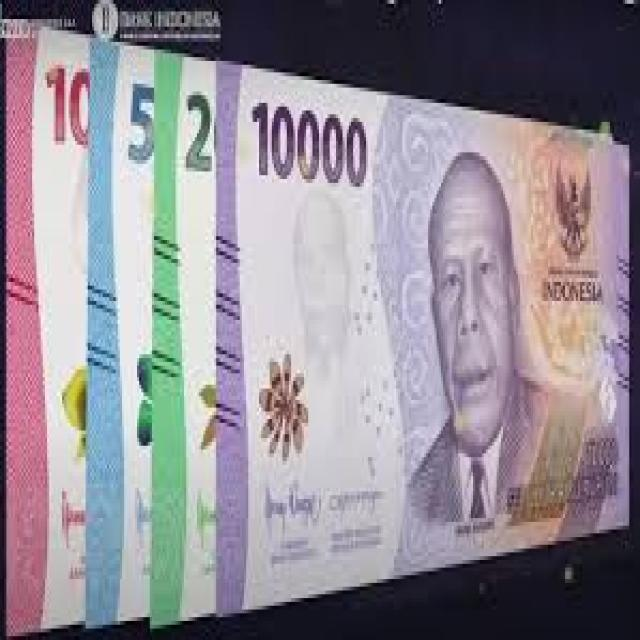dua puluh ribu rupiah: (150, 51, 212, 634)
lima puluh ribu rupiah: (86, 35, 153, 636)
sepuluh ribu rupiah: (215, 59, 631, 624)
seratus ribu rupiah: (6, 18, 87, 640)
